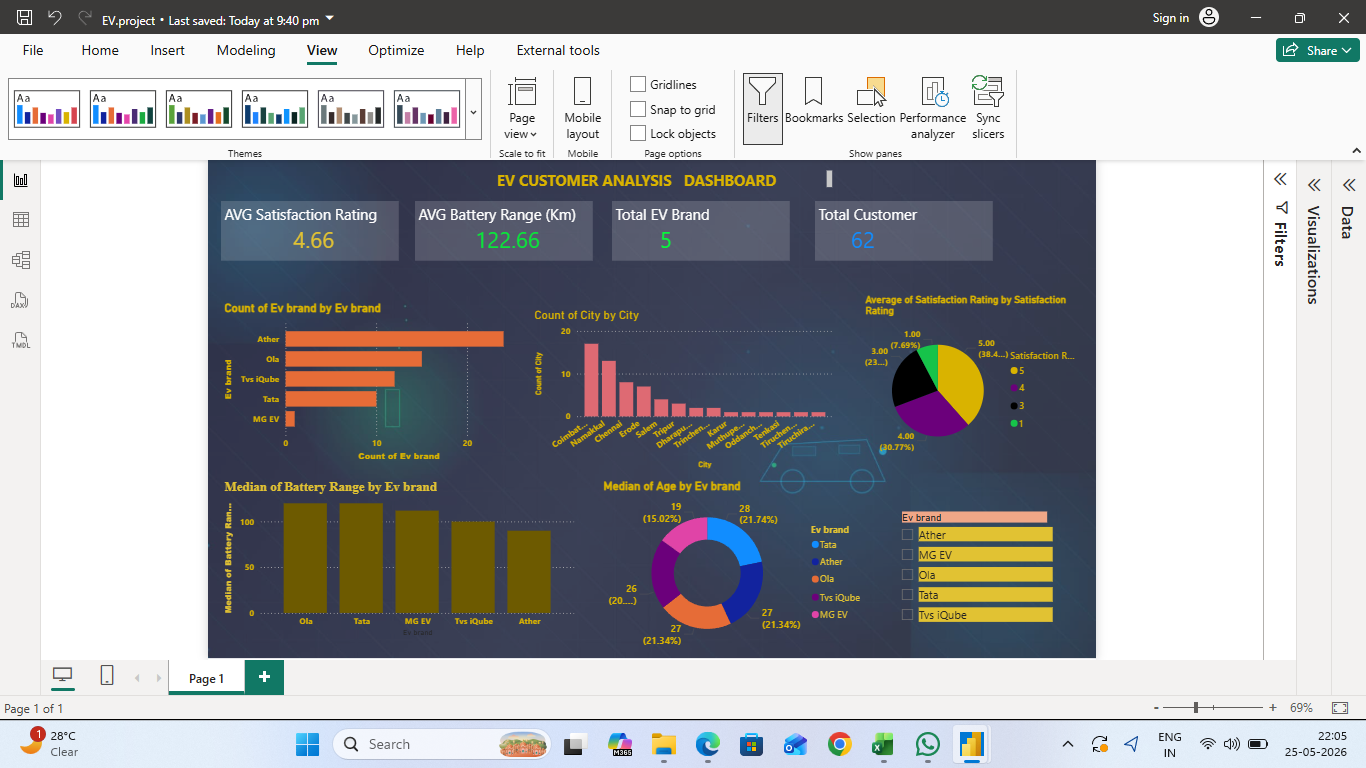

The page's visual inventory and layout, read from the dashboard file:
{"tool":"powerbi","page":{"name":"Page 1","canvas":[1280,720],"ordinal":0},"visuals":[{"type":"clusteredBarChart","fields":{"Category":["cleaned_ev_dataf.Ev brand "],"Y":["CountNonNull(cleaned_ev_dataf.Ev brand )"]},"box":[18.7,203,432,236.2],"z":0},{"type":"columnChart","fields":{"Category":["cleaned_ev_dataf.City"],"Y":["CountNonNull(cleaned_ev_dataf.City)"]},"box":[465.1,213.1,439.2,236.2],"z":1000},{"type":"pieChart","fields":{"Y":["Avg(cleaned_ev_dataf.Satisfaction Rating)"],"Category":["cleaned_ev_dataf.Satisfaction Rating"]},"box":[941.8,193,325.4,246.2],"z":2000},{"type":"clusteredColumnChart","fields":{"Category":["cleaned_ev_dataf.Ev brand "],"Y":["Median(cleaned_ev_dataf.Battery Range)"]},"box":[18.7,459.4,514.1,231.8],"z":3000},{"type":"slicer","fields":{"Values":["cleaned_ev_dataf.Ev brand "]},"box":[986.4,501.1,234.7,200.2],"z":5000},{"type":"donutChart","fields":{"Y":["Median(cleaned_ev_dataf.Age)"],"Category":["cleaned_ev_dataf.Ev brand "]},"box":[564.5,459.4,388.8,252],"z":6000},{"type":"textbox","box":[411.8,10.1,492.5,36],"z":10001},{"type":"textbox","box":[18.7,59,256.3,86.4],"z":10002},{"type":"textbox","box":[298.1,59,256.3,86.4],"z":10004},{"type":"textbox","box":[581.8,59,256.3,86.4],"z":10005},{"type":"textbox","box":[874.1,59,256.3,86.4],"z":10006}]}

Visuals, with their boxes on the page's 1280x720 design canvas (x1, y1, x2, y2). These are canvas units, not pixel positions in the 1366x768 screenshot, which may show the page scaled, cropped or inside an application window:
clusteredBarChart - cleaned_ev_dataf.Ev brand  x CountNonNull(cleaned_ev_dataf.Ev brand ): (19,203,451,439)
columnChart - cleaned_ev_dataf.City x CountNonNull(cleaned_ev_dataf.City): (465,213,904,449)
pieChart - Avg(cleaned_ev_dataf.Satisfaction Rating) x cleaned_ev_dataf.Satisfaction Rating: (942,193,1267,439)
clusteredColumnChart - cleaned_ev_dataf.Ev brand  x Median(cleaned_ev_dataf.Battery Range): (19,459,533,691)
slicer - cleaned_ev_dataf.Ev brand : (986,501,1221,701)
donutChart - Median(cleaned_ev_dataf.Age) x cleaned_ev_dataf.Ev brand : (564,459,953,711)
textbox: (412,10,904,46)
textbox: (19,59,275,145)
textbox: (298,59,554,145)
textbox: (582,59,838,145)
textbox: (874,59,1130,145)
